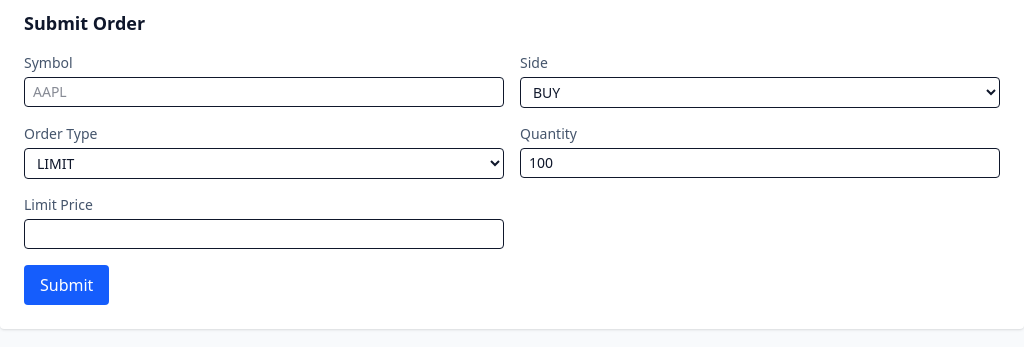
OrderForm — GTC / ICEBERG › shows display quantity input for ICEBERG order type only
Expected: the field labelled "display quantity" is not shown
Select "ICEBERG" in the dropdown labelled "Order Type": (264, 164) [24,148,504,179]
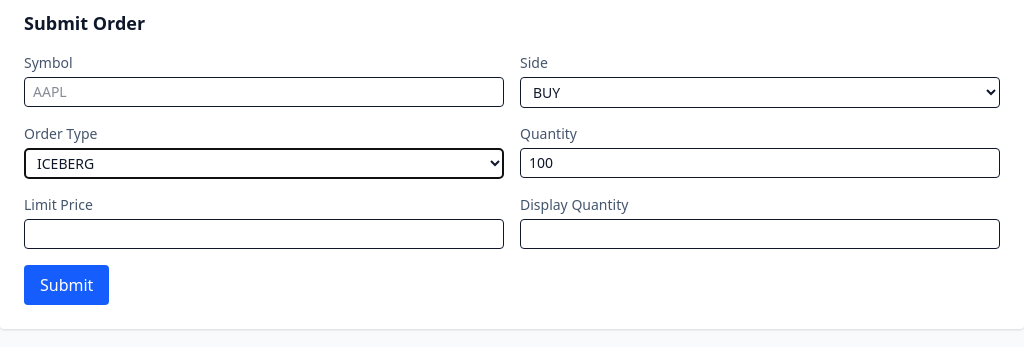
Now the number field labelled "Display Quantity" is shown, box [520,219,1000,249]
